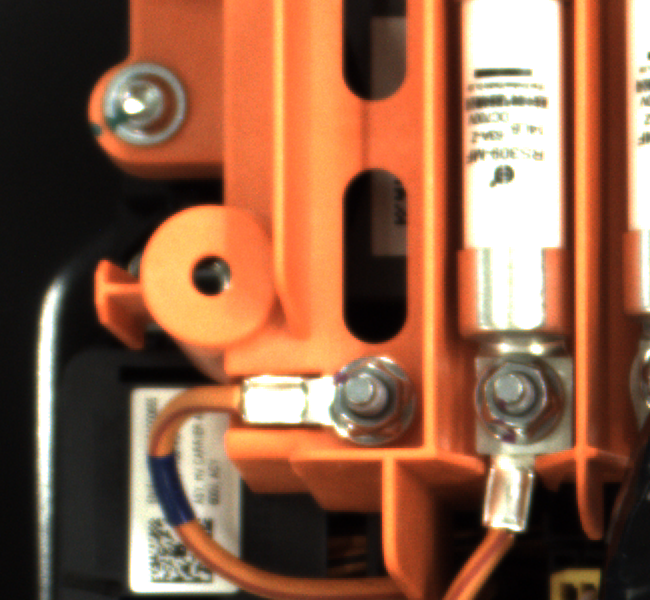screw_m: (97, 54, 221, 163)
screw_s: (472, 357, 562, 442), (323, 358, 411, 437)
